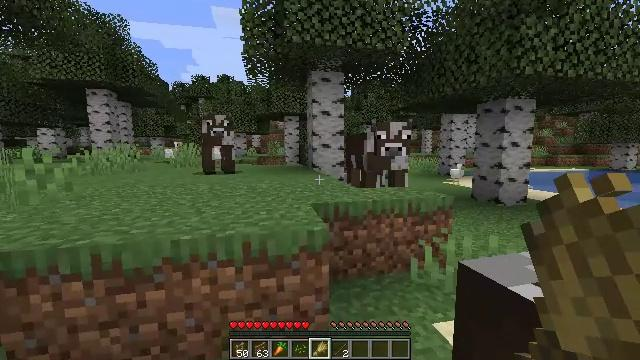chicken: (165, 142, 185, 163), (450, 162, 464, 186)
cow: (346, 122, 409, 188), (202, 113, 236, 174)
